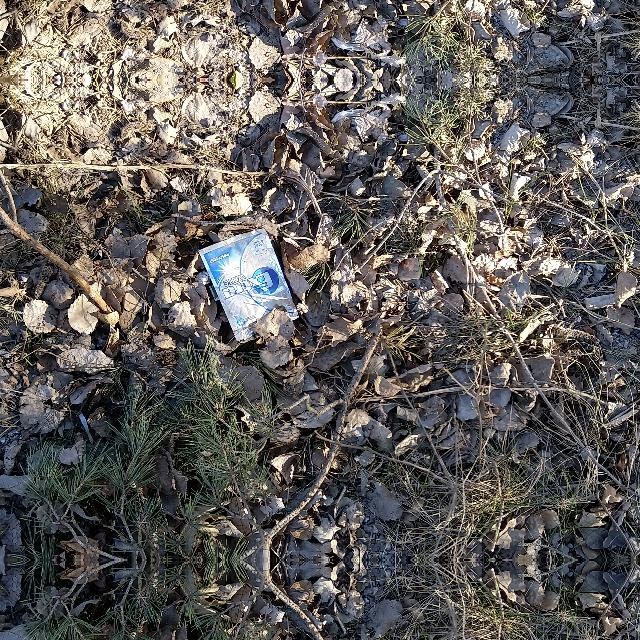Paper: (196, 226, 308, 346)
